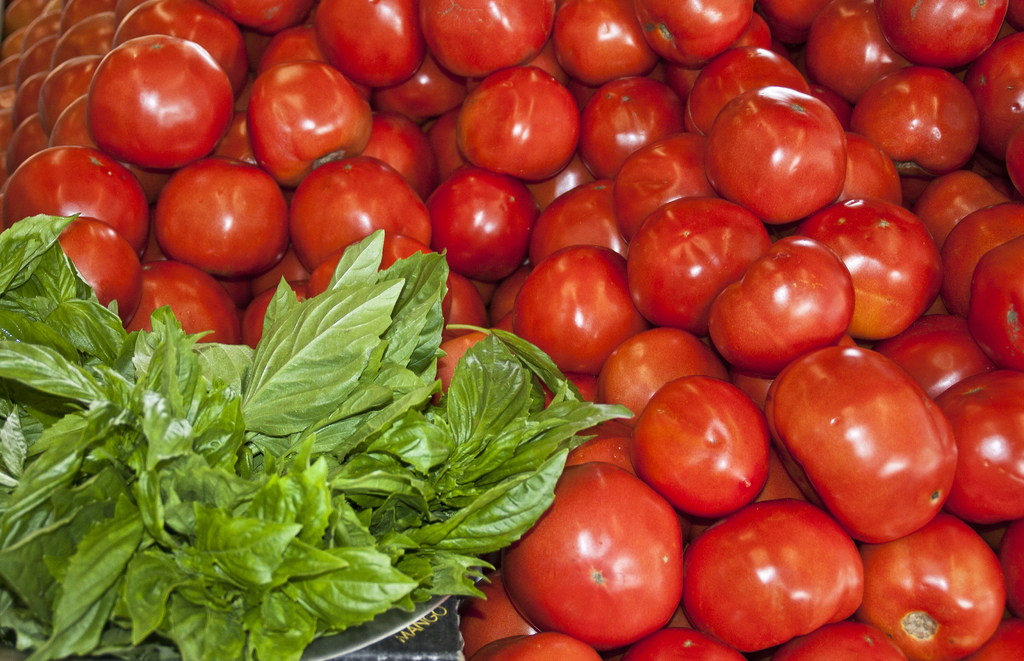Tomato: (0, 4, 1023, 660), (500, 457, 682, 655), (705, 248, 853, 379)
